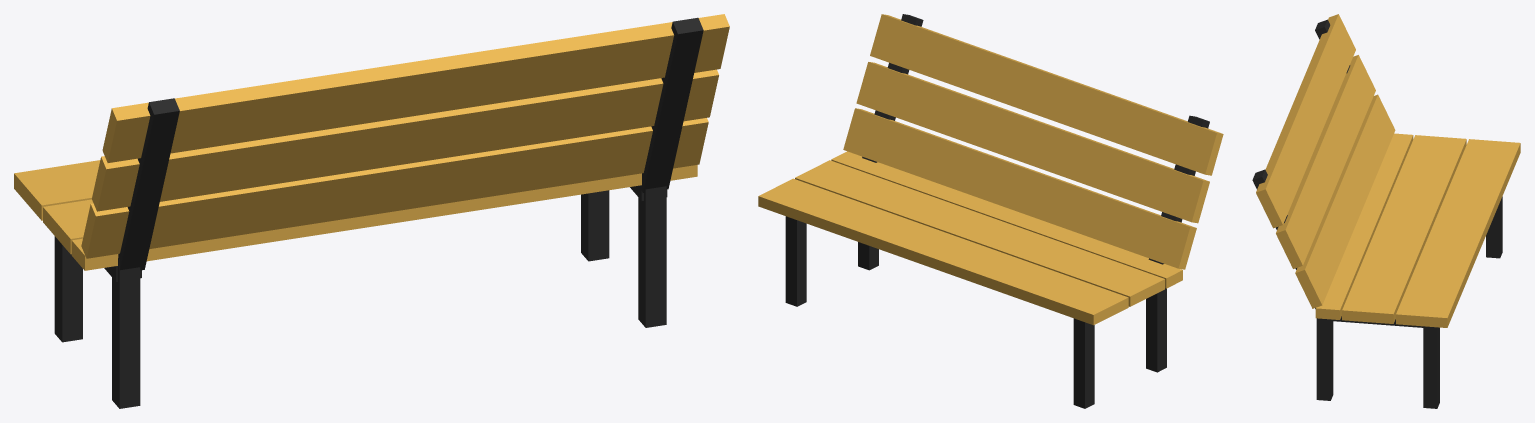
File: Bench.gltf
3 renders of one model, left to right at view 1: azimuth 30°, elevation 25°; view 2: azimuth 150°, elevation 25°; view 3: azimuth 270°, elevation 25°, orthographic. The views are drawn at different scales.
Parts seen in each view (by area): view 1: node-0; view 2: node-0; view 3: node-0.
Part boxes in pixels (x1=…): node-0: x1=14, y1=14, x2=729, y2=408; node-0: x1=758, y1=14, x2=1223, y2=408; node-0: x1=1252, y1=14, x2=1520, y2=408.
Size of the model in its own units: 513888 by 278037 by 307236.
